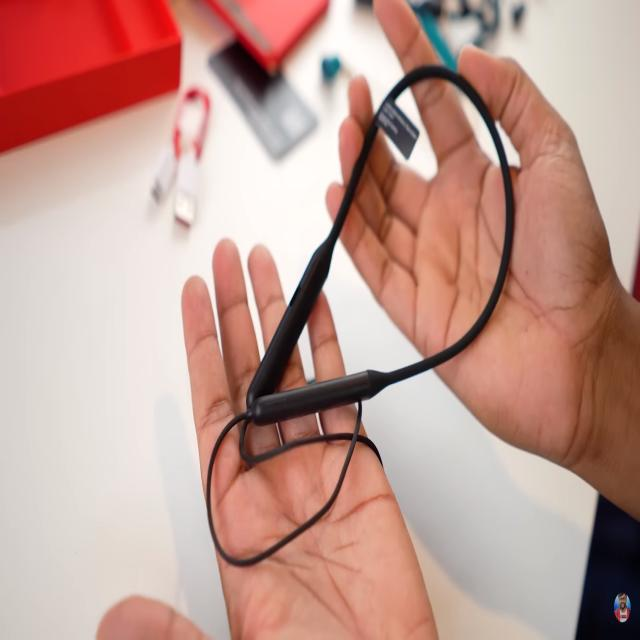Neckband: (206, 62, 514, 570)
